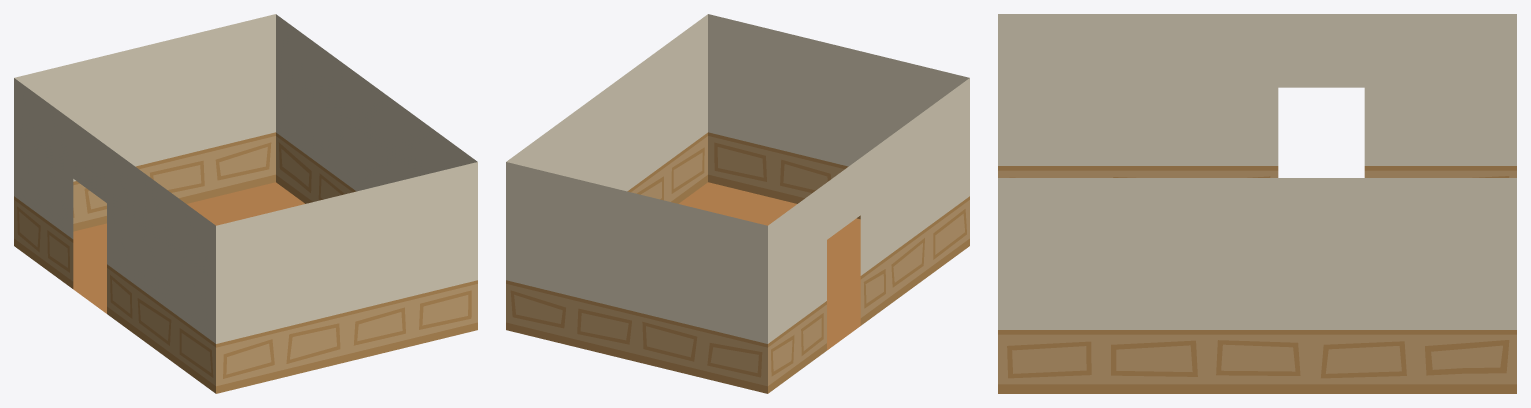
File: Room.fbx
3 renders of one model, left to right at view 1: azimuth 30°, elevation 25°; view 2: azimuth 150°, elevation 25°; view 3: azimuth 270°, elevation 25°, orthographic. The views are drawn at different scales.
Parts seen in each view (by area): view 1: Room; view 2: Room; view 3: Room.
Boxes of the visible parts, left/top/right/bottom form: Room: left=14, top=14, right=477, bottom=393; Room: left=506, top=14, right=969, bottom=393; Room: left=998, top=14, right=1516, bottom=393.
Bounding box in the file's own units: 5.2 × 3.2 × 6.96.
